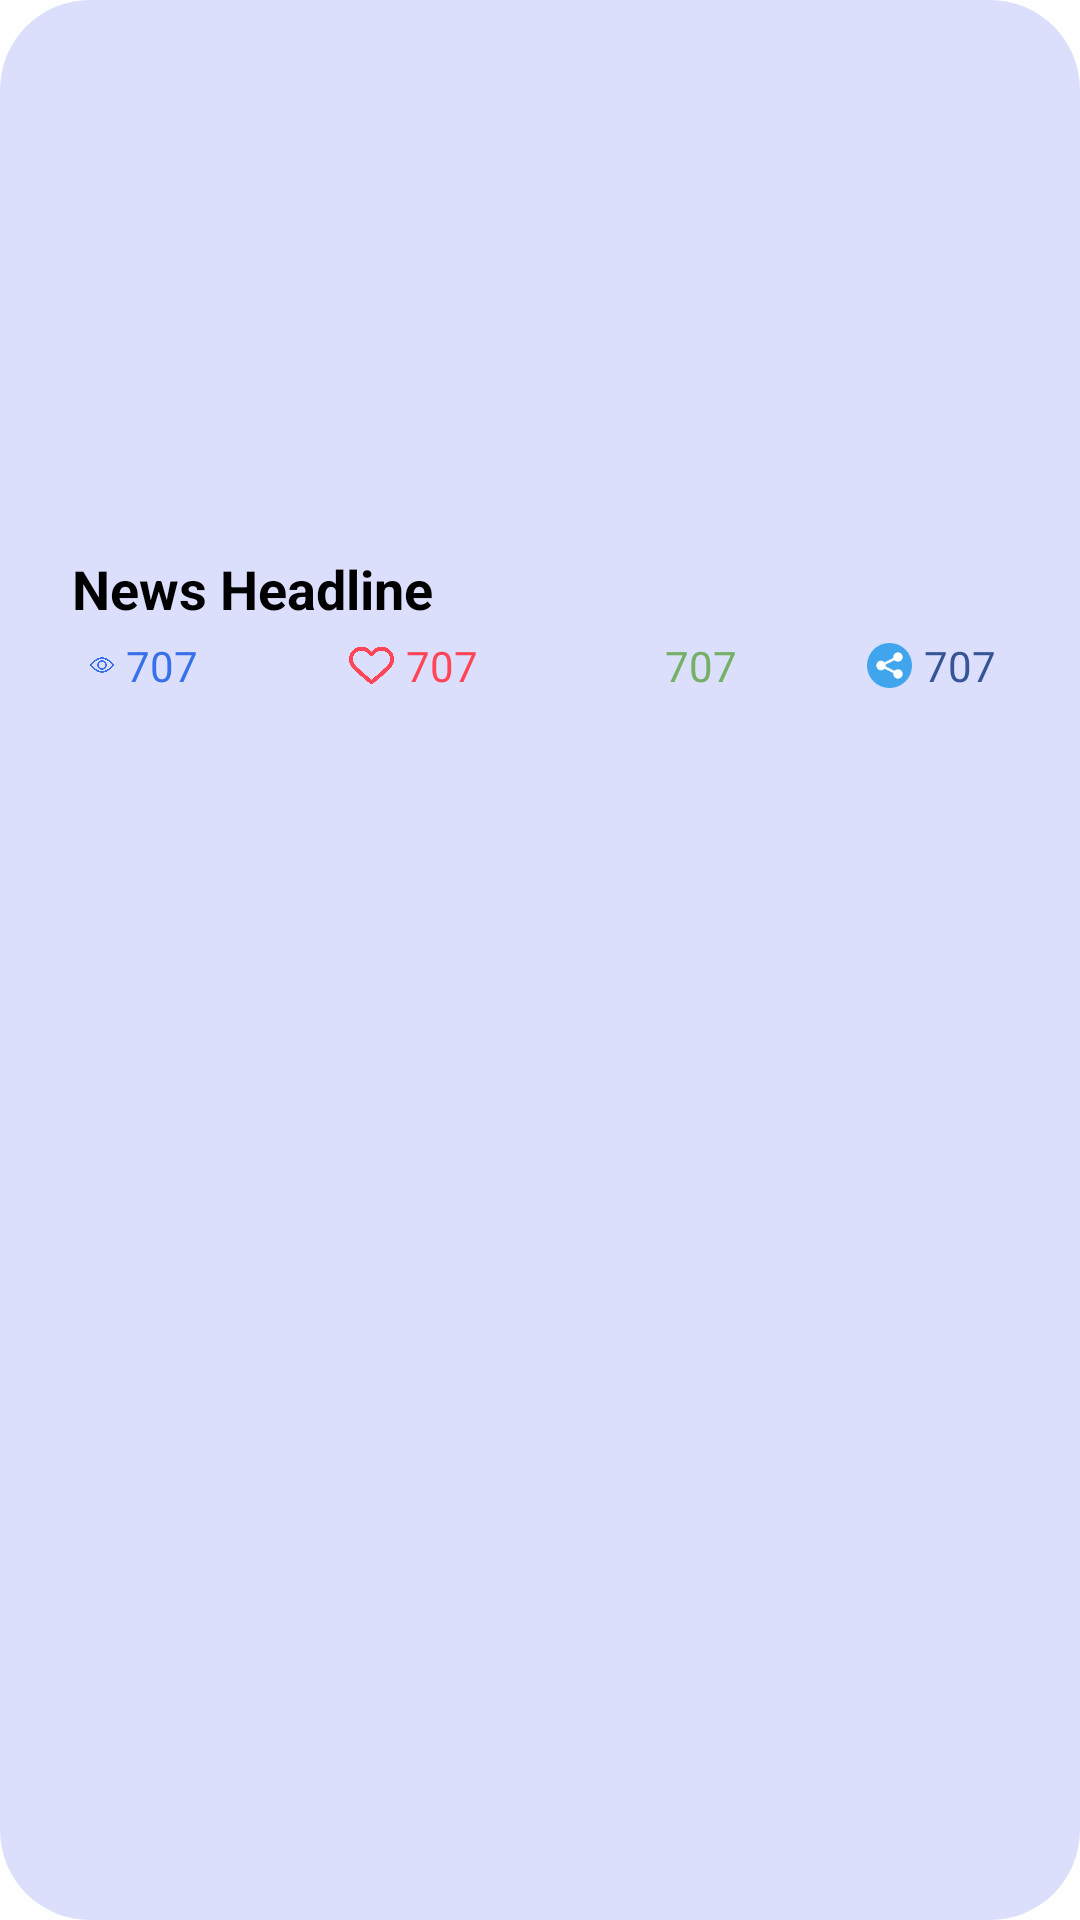

Where icons sit on this 1080x1920 app screen, as bbox=[x1, y1, x2, y2]:
like: bbox=[349, 647, 394, 684]
share: bbox=[867, 643, 912, 688]
view: bbox=[90, 657, 114, 673]
